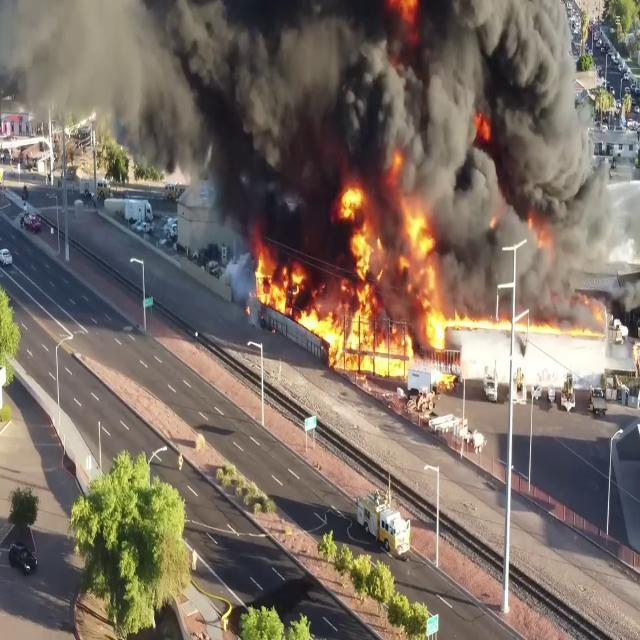Fire: (248, 192, 450, 366), (445, 311, 609, 342)
Smoke: (162, 0, 627, 297), (0, 0, 162, 181)
